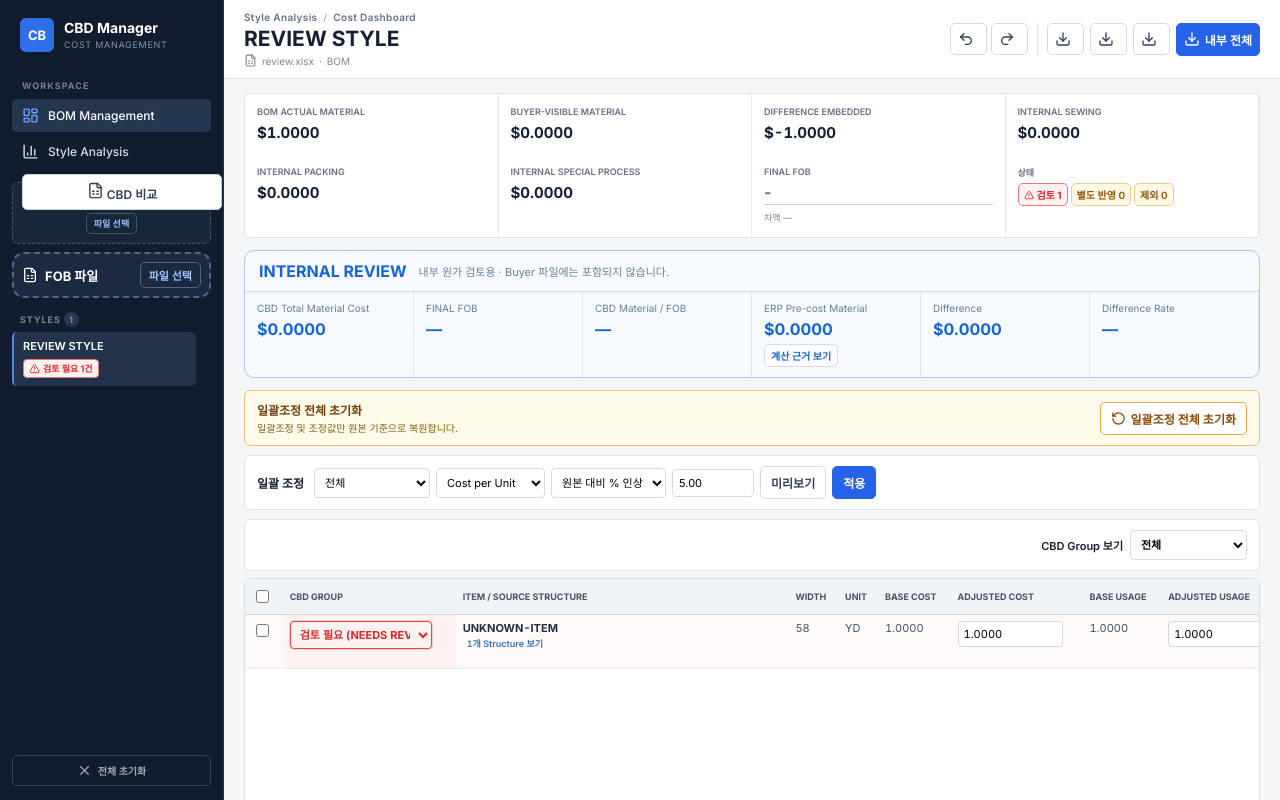
Scenario: CBD workspace UI › shows one consistent red review count and clears every warning after manual classification
The image size is (1280, 800).
Click the button "검토 1". click: x=1043, y=194
box: [1018,183,1068,206]
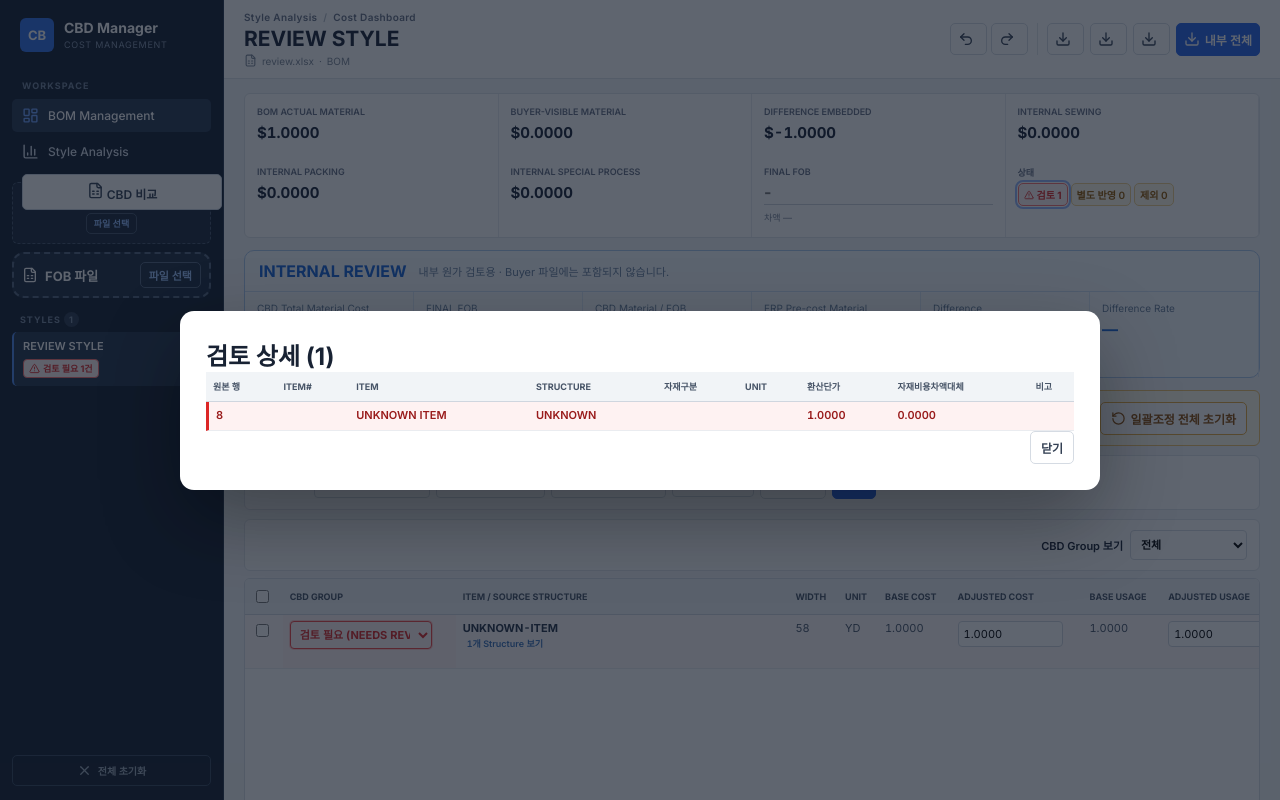
expect the heading "검토 상세 (1)" is shown: met, box [206,342,335,370]
expect the number of rows with class "review-detail-row" is 1: met, box [206,402,1074,430]
Click the button "닫기". click: x=1052, y=447
box: [1030,430,1074,464]
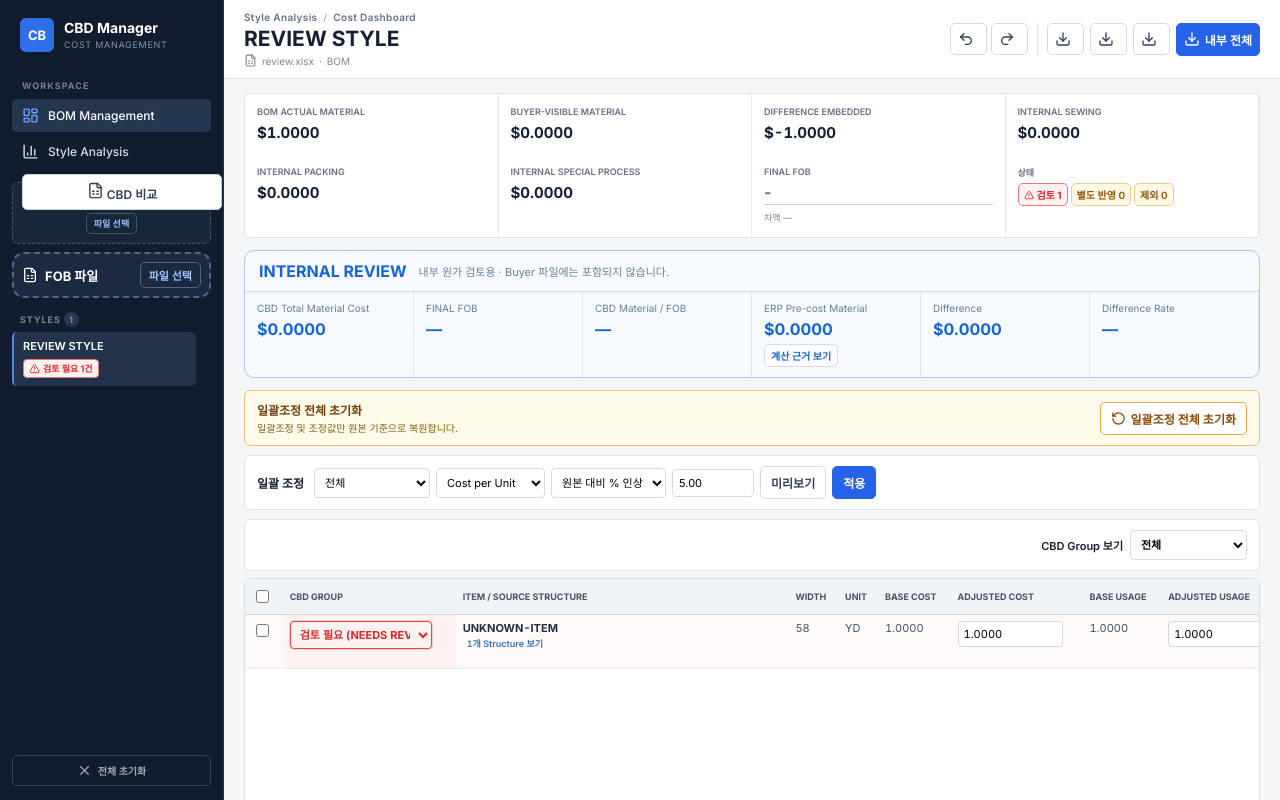
Select "OUTSHELL" in the dropdown named "UNKNOWN-ITEM CBD Group". click: x=361, y=635
box: [290,621,432,649]
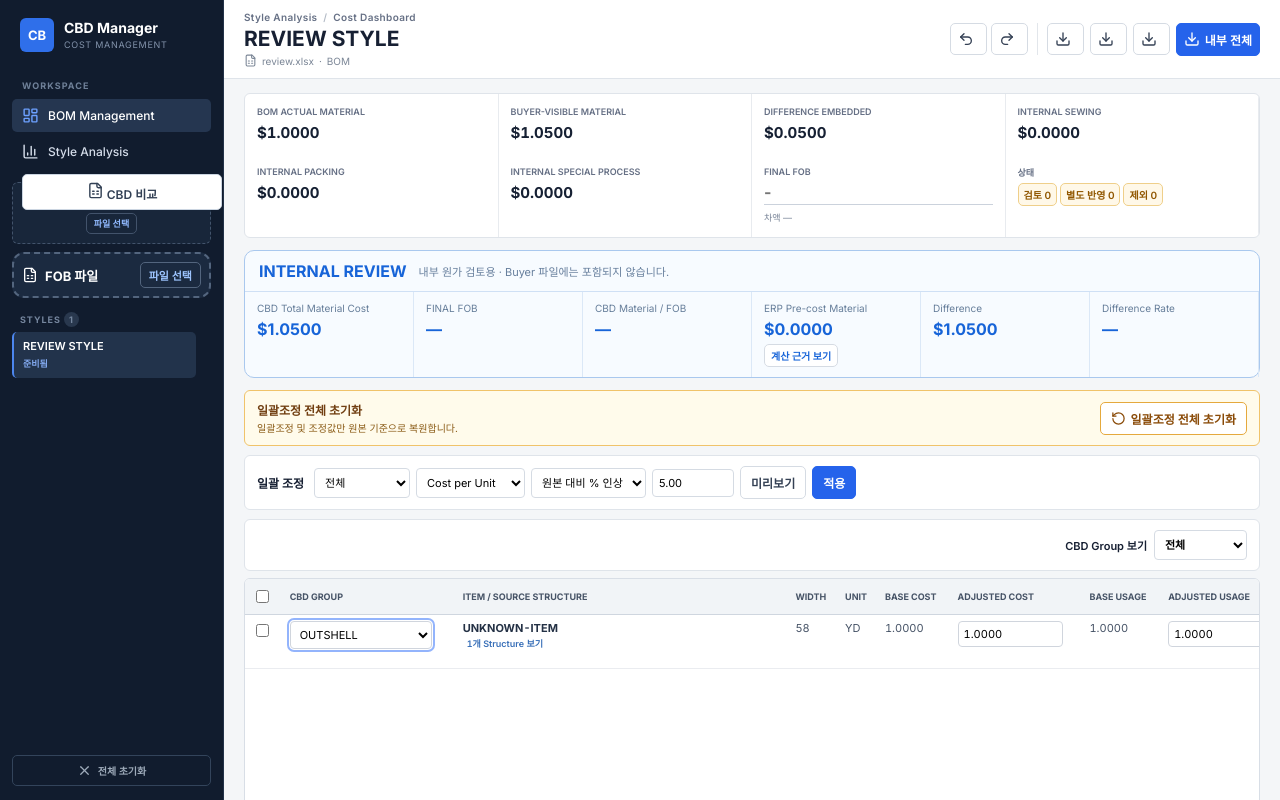
expect the text "준비됨" is shown: met, box [23,357,48,370]
